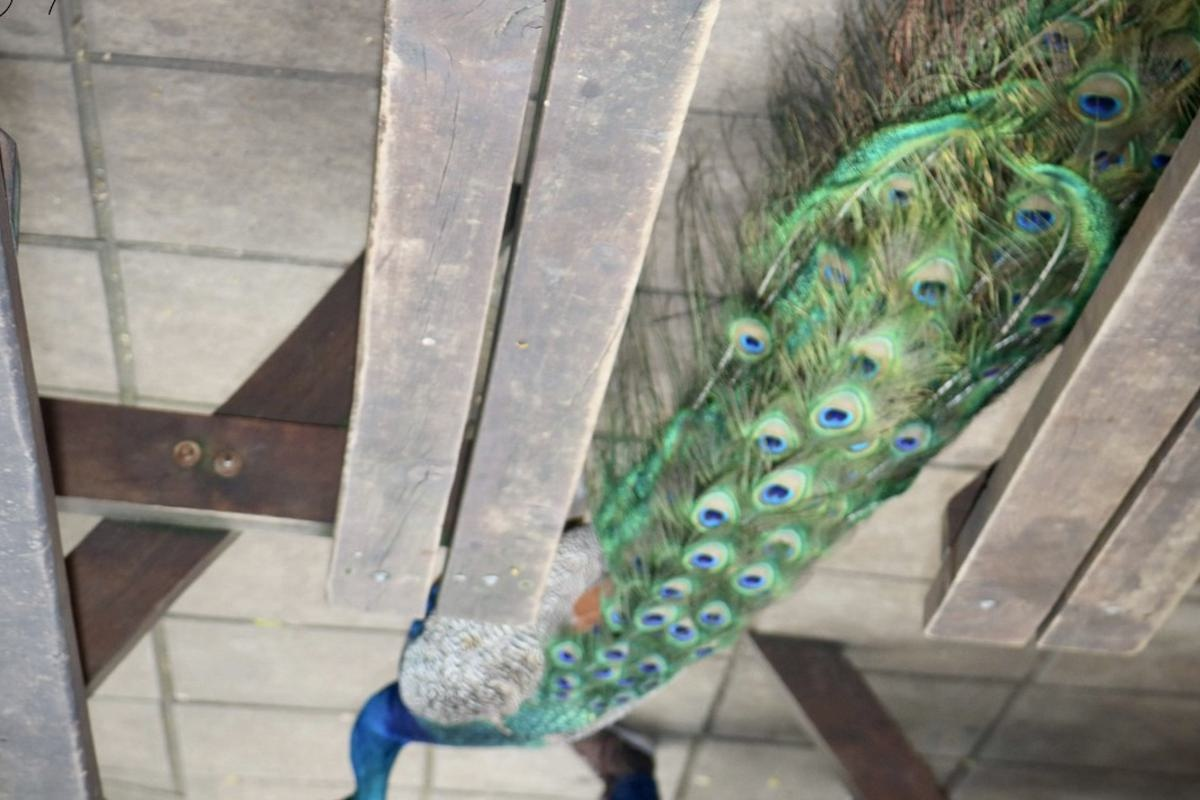peacock: (314, 53, 1150, 793)
